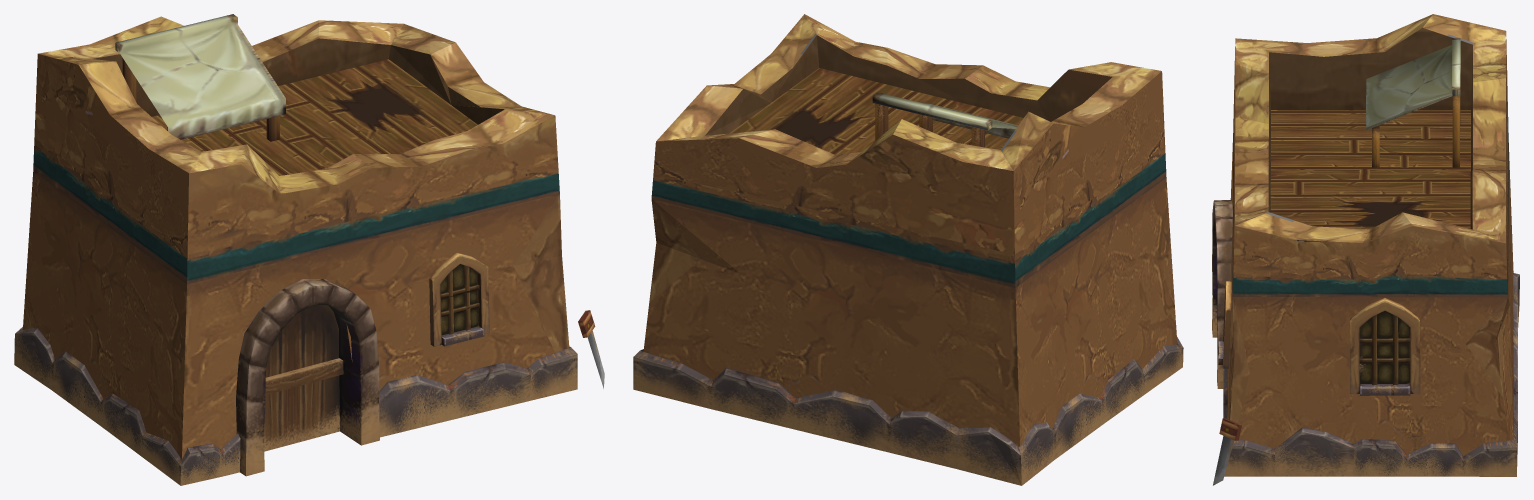
Rendered from fangzi04.FBX.
3 views of the same model, side by side, from view 1: azimuth 30°, elevation 25°; view 2: azimuth 150°, elevation 25°; view 3: azimuth 270°, elevation 25° (orthographic). The views are drawn at different scales.
Visible parts, largest first — view 1: fangzi04; view 2: fangzi04; view 3: fangzi04.
Boxes of the visible parts, left/top/right/bottom form: fangzi04: left=14, top=14, right=604, bottom=485; fangzi04: left=633, top=14, right=1183, bottom=485; fangzi04: left=1212, top=14, right=1519, bottom=485.
Size of the model in its own units: 235 by 176 by 166.
